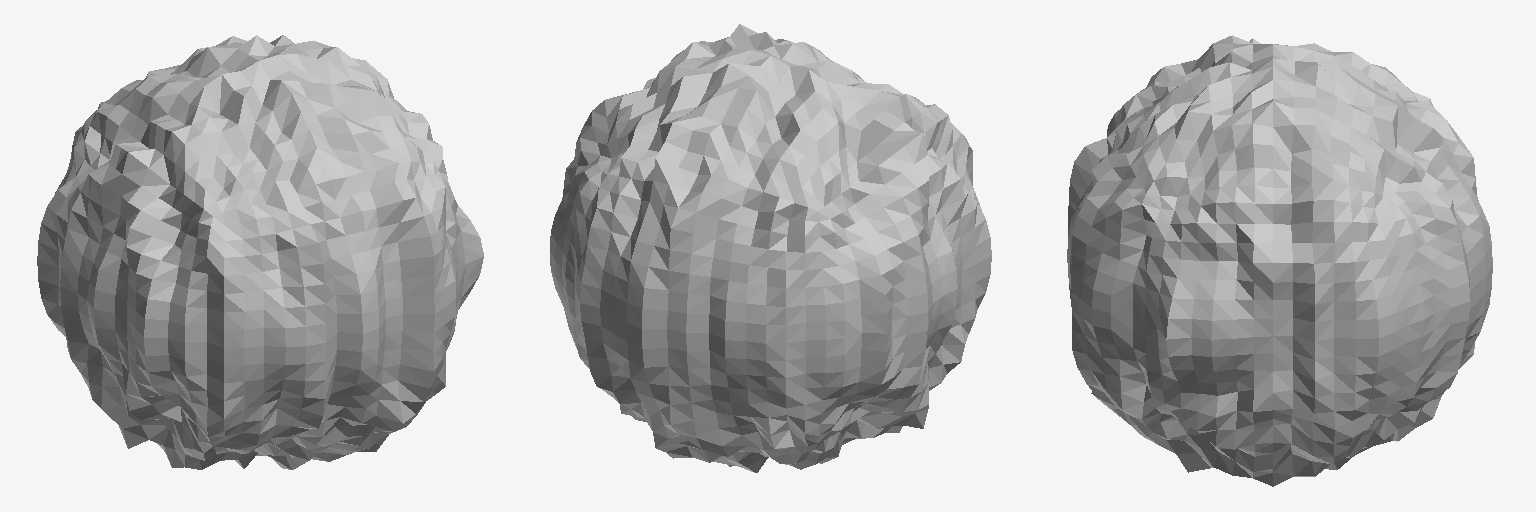
File: asteroid64.obj
The picture shows the model from 3 angles: view 1: azimuth 30°, elevation 25°; view 2: azimuth 150°, elevation 25°; view 3: azimuth 270°, elevation 25°; orthographic projection.
Parts seen in each view (by area): view 1: Cube_Cube.002; view 2: Cube_Cube.002; view 3: Cube_Cube.002.
Boxes of the visible parts, x1=… form: Cube_Cube.002: x1=37, y1=35, x2=483, y2=469; Cube_Cube.002: x1=550, y1=24, x2=991, y2=472; Cube_Cube.002: x1=1067, y1=35, x2=1492, y2=486.
Bounding box in the file's own units: 1.7 × 1.84 × 1.76.